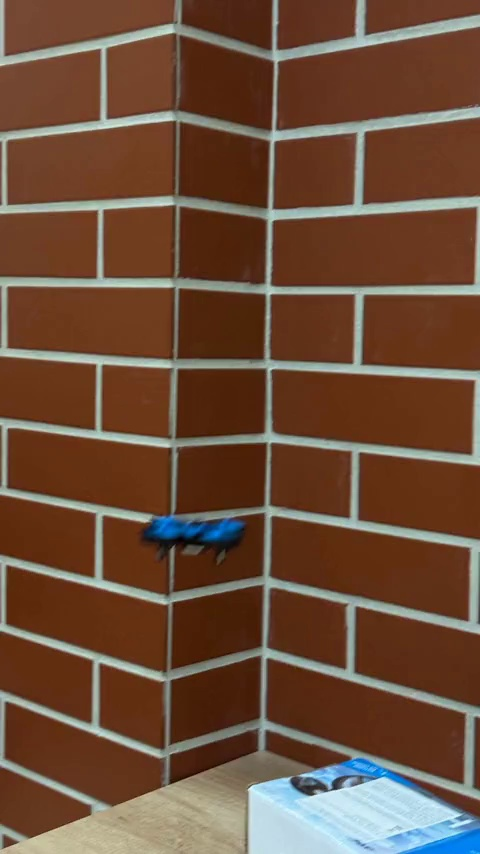drone: (144, 510, 245, 564)
